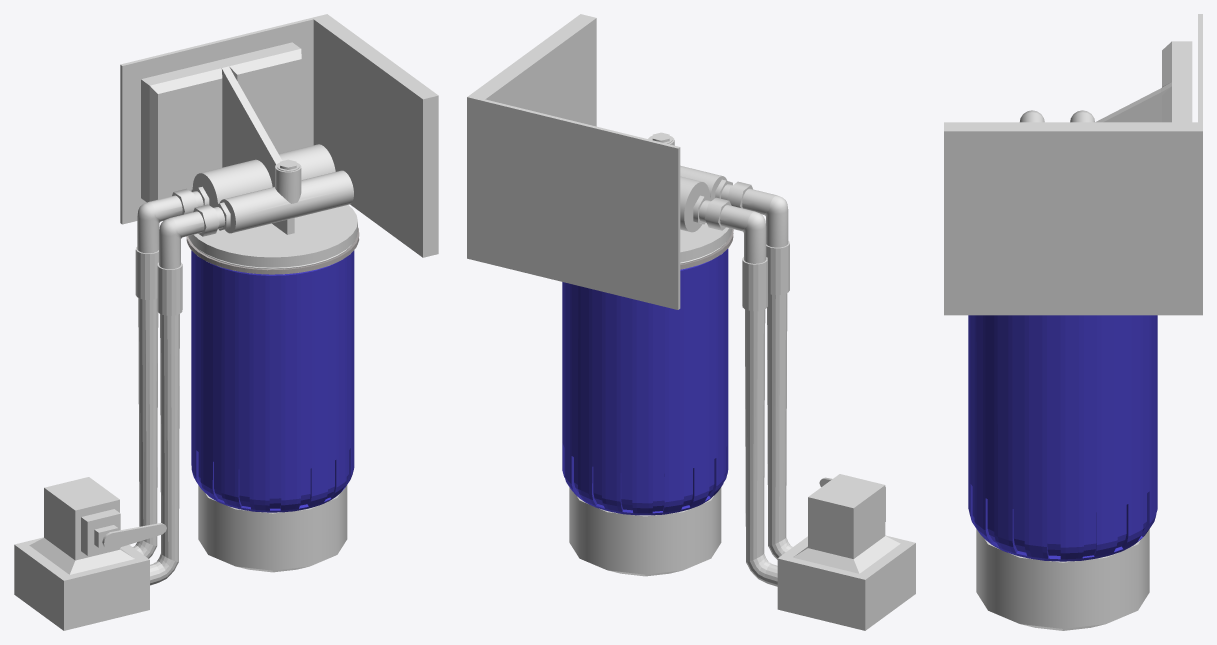
Rendered from OilFilters.fbx.
3 renders of one model, left to right at view 1: azimuth 30°, elevation 25°; view 2: azimuth 150°, elevation 25°; view 3: azimuth 270°, elevation 25°, orthographic. The views are drawn at different scales.
Visible parts, largest first — view 1: Oil Filter_case, FilterTop, Bracket, Line, CockValve, Filter Bowl, Handle; view 2: Bracket, Oil Filter_case, Line, CockValve, Filter Bowl, FilterTop; view 3: Bracket, Oil Filter_case, Filter Bowl, FilterTop, Line.
Part boxes in pixels (x1,y1,x2,y2): Oil Filter_case: (186,227,359,512); FilterTop: (141,42,357,267); Bracket: (120,14,438,257); Line: (133,186,230,585); CockValve: (14,477,149,630); Filter Bowl: (198,485,347,572); Handle: (102,523,166,549); Bracket: (467,14,680,309); Oil Filter_case: (562,229,733,515); Line: (693,179,792,586); CockValve: (777,474,915,630); Filter Bowl: (569,487,721,576); FilterTop: (648,132,732,262); Bracket: (944,14,1202,315); Oil Filter_case: (968,315,1157,561); Filter Bowl: (976,529,1149,630); FilterTop: (1095,41,1192,122); Line: (1020,110,1094,122).
Bounding box in the file's own units: 4.65 × 5.89 × 2.55.
